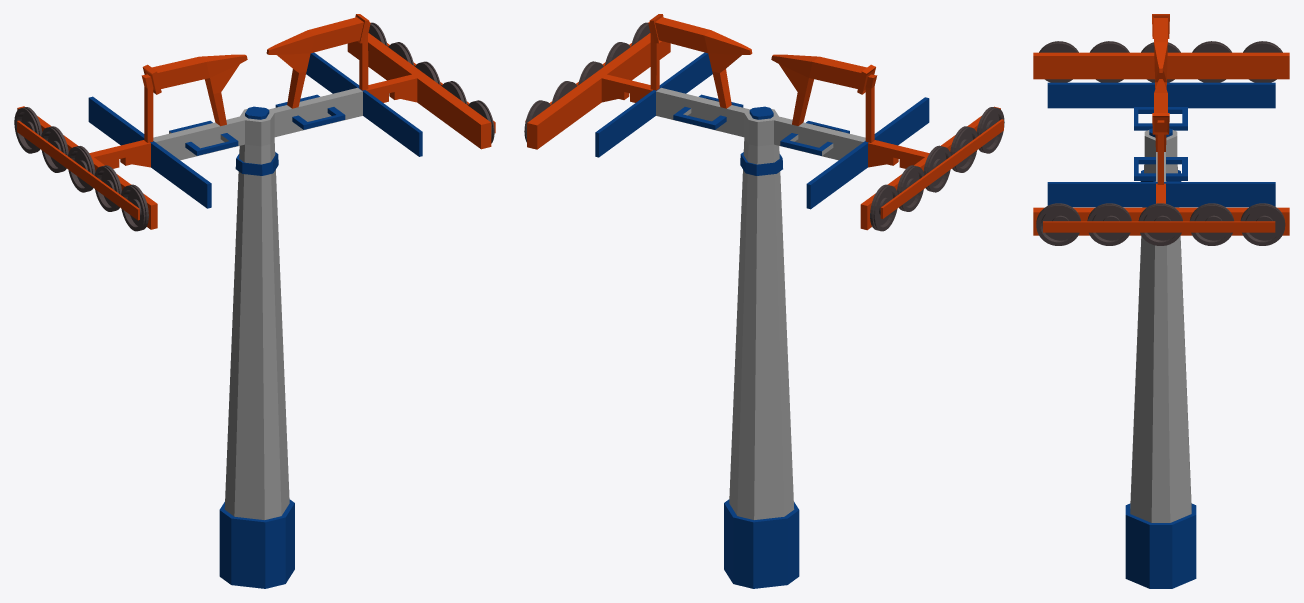
The model's file is TowerFix.fbx.
3 views of the same model, side by side, from view 1: azimuth 30°, elevation 25°; view 2: azimuth 150°, elevation 25°; view 3: azimuth 270°, elevation 25° (orthographic). The views are drawn at different scales.
Parts seen in each view (by area): view 1: Cube.006, Cylinder.004, Cube.017, Cylinder.002; view 2: Cube.006, Cylinder.004, Cube.017, Cylinder.002; view 3: Cube.006, Cylinder.002, Cube.019, Cylinder.004.
Boxes of the visible parts, <box> form: Cube.006: <box>17,14,491,588</box>; Cylinder.004: <box>14,107,148,231</box>; Cube.017: <box>17,120,139,220</box>; Cylinder.002: <box>368,22,494,143</box>; Cube.006: <box>527,14,1000,588</box>; Cylinder.004: <box>870,107,1004,231</box>; Cube.017: <box>880,119,1003,218</box>; Cylinder.002: <box>524,22,650,142</box>; Cube.006: <box>1033,14,1289,588</box>; Cylinder.002: <box>1036,203,1285,245</box>; Cube.019: <box>1043,221,1275,232</box>; Cylinder.004: <box>1039,41,1282,82</box>.
Bounding box in the file's own units: 583 × 826 × 377.
